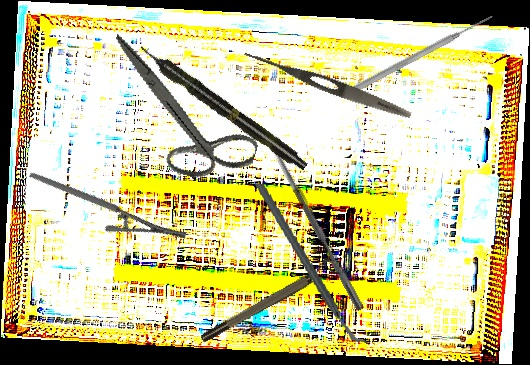Chopper: (254, 172, 368, 355)
Dressing Forceps: (241, 47, 414, 123)
Fixation Ring: (195, 254, 342, 346)
Handpiece: (135, 39, 311, 175)
Iris Scissors: (83, 34, 278, 193)
Needle Holder: (28, 129, 190, 281)
Pusher: (347, 11, 496, 97)
Surgical Spoon: (263, 131, 366, 312)
